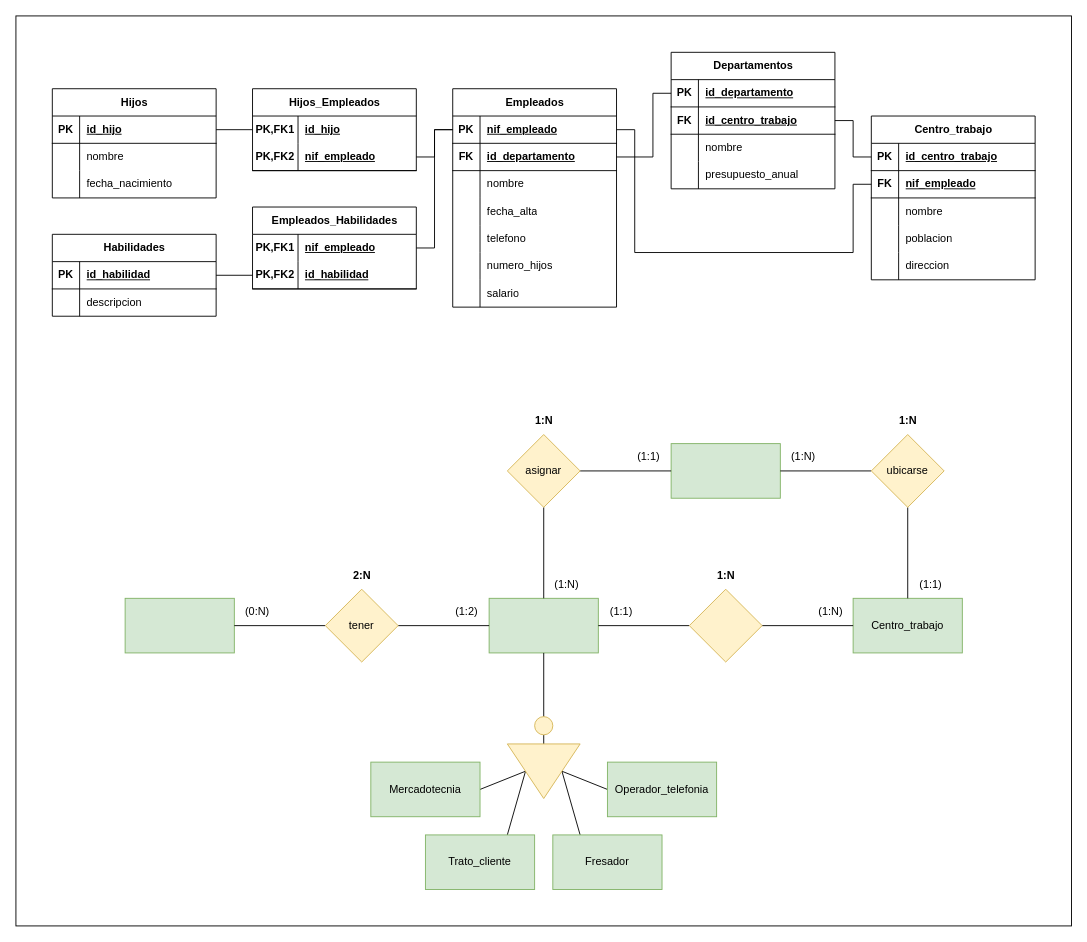
Some shapes in this 1087 by 942 pixel diagram are drawn without their labels. Each missing label, with the centre of its shape:
Departamento: point 725,470
dirigir: point 725,625
Empleado: point 543,625
Hijo: point 179,625
N:M: point 543,771
